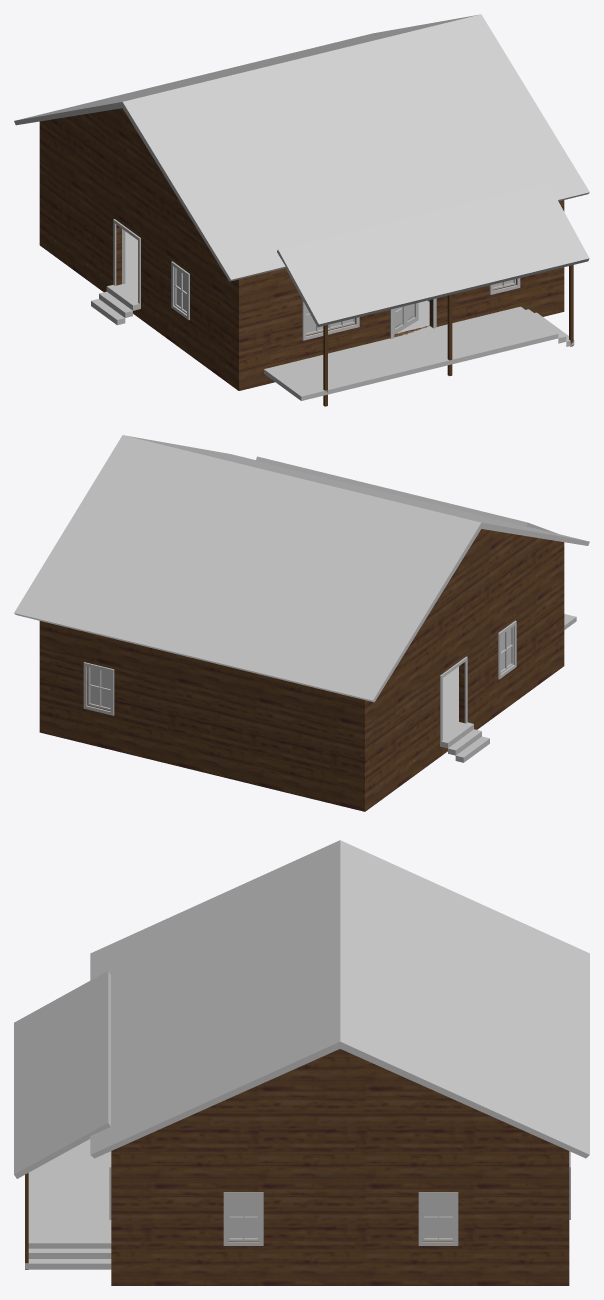
File: House_V7.fbx
The picture shows the model from 3 angles, top to bottom: view 1: azimuth 30°, elevation 25°; view 2: azimuth 150°, elevation 25°; view 3: azimuth 270°, elevation 25°; orthographic projection. The views are drawn at different scales.
Parts seen in each view (by area): view 1: House_Geo1; view 2: House_Geo1; view 3: House_Geo1.
Part boxes in pixels (x1,y1,x2,y2): House_Geo1: [14, 14, 589, 406]; House_Geo1: [14, 435, 589, 811]; House_Geo1: [14, 840, 589, 1285].
Bounding box in the file's own units: 1287 × 742 × 1526.
